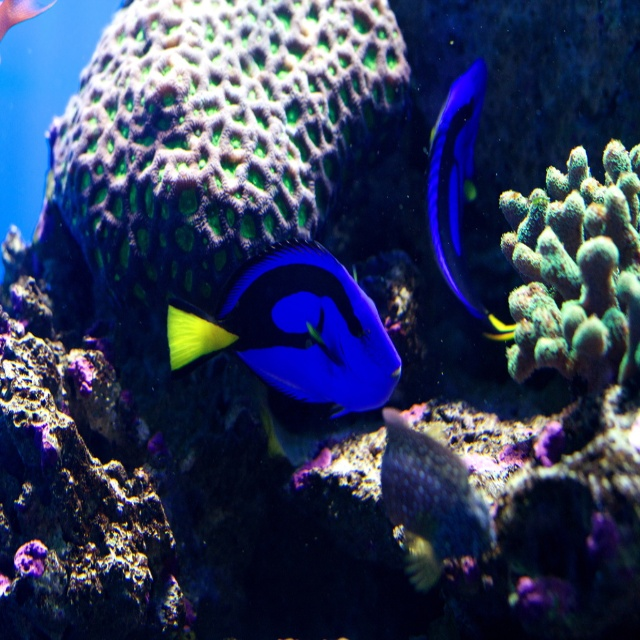Fish: (166, 239, 403, 422), (428, 64, 517, 342), (0, 0, 56, 42)
